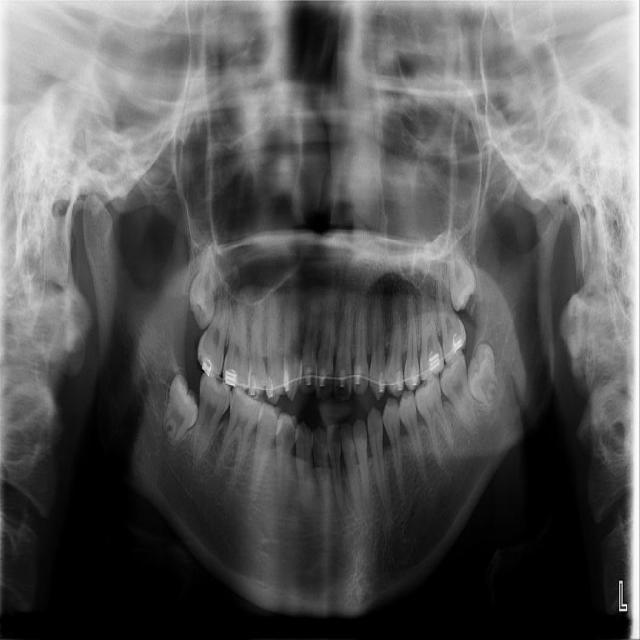impacted tooth: (446, 225, 477, 309), (188, 243, 218, 320)
